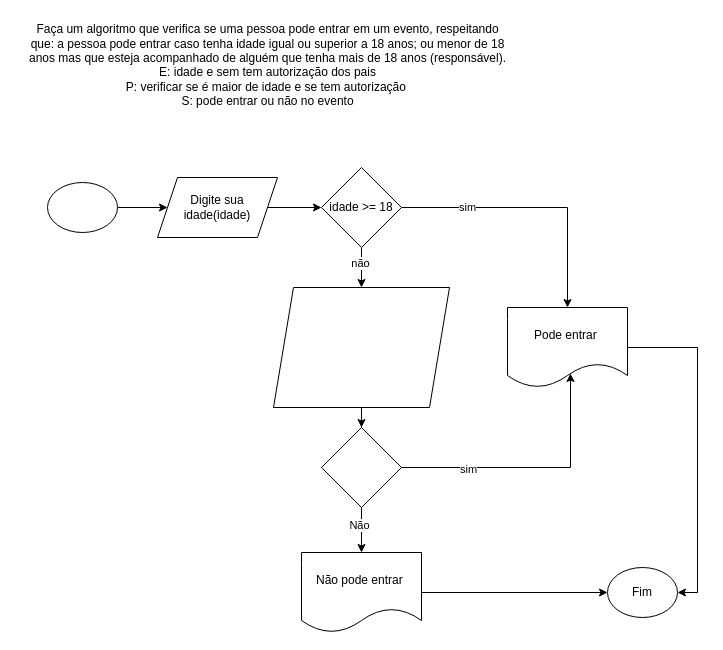
This 723x650 diagram has some shape labels left out. The box of each missing label's shape, as (x1, y1, x2, y2) in pixels:
Está acompanhado do responsável, escreva sim ou não(responsavel): (272, 286, 450, 408)
Inicio: (46, 182, 118, 232)
responsavél == sim: (320, 426, 402, 508)
